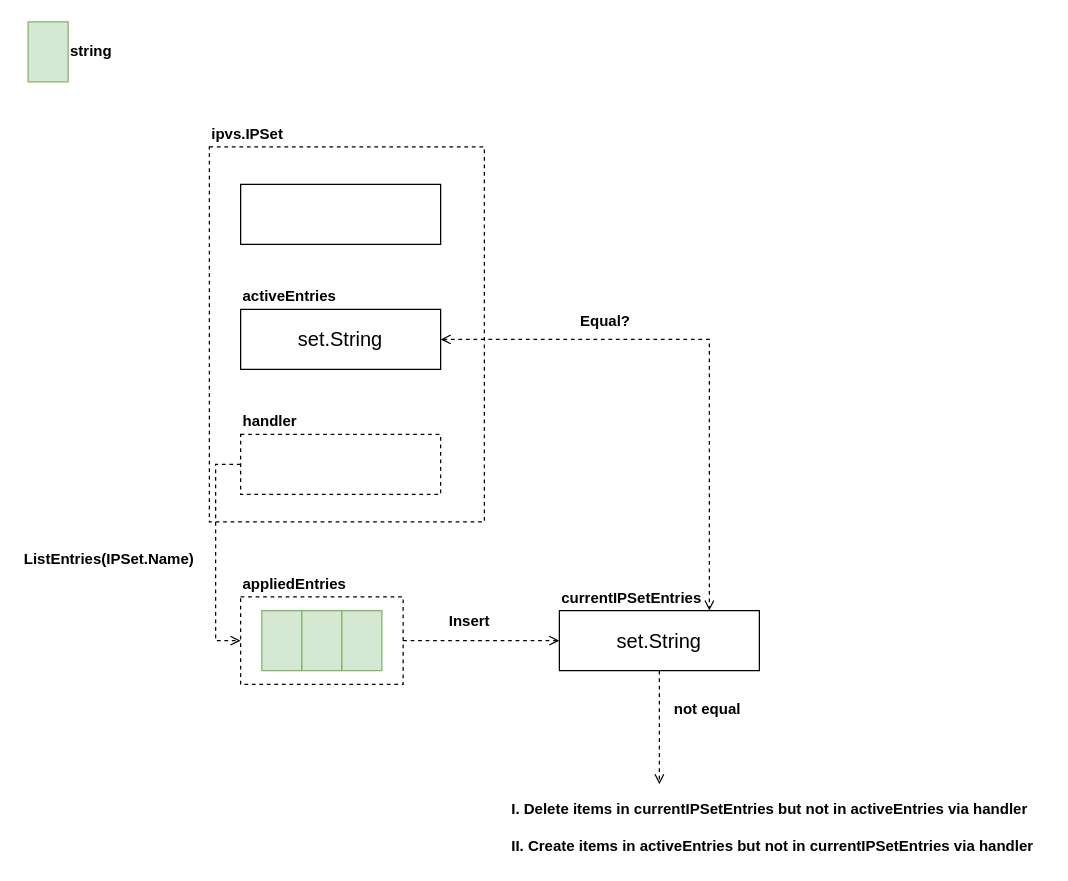
Some shapes in this 1068 by 881 pixel diagram are drawn without their labels. The shapes that lost their labels are listed below. From the top down, each one's centre as x and y in pixels, then its label:
At [340,213]: "utilipset.IPSet".
At [340,463]: "utilipset.Interface".
